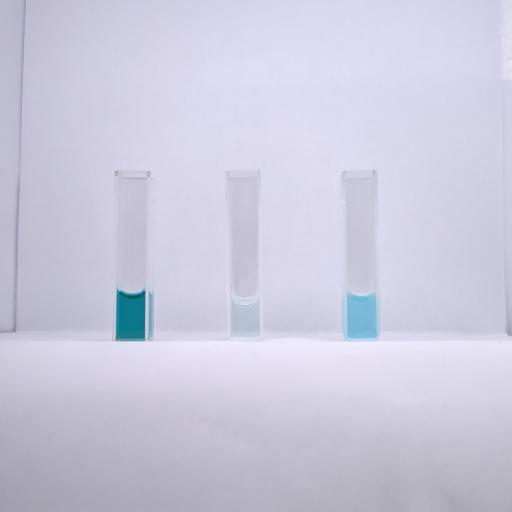cuvette: (340, 168, 382, 342), (111, 169, 152, 342), (224, 168, 265, 341)
liquid: (116, 290, 145, 338), (348, 292, 378, 338), (231, 296, 259, 336)
